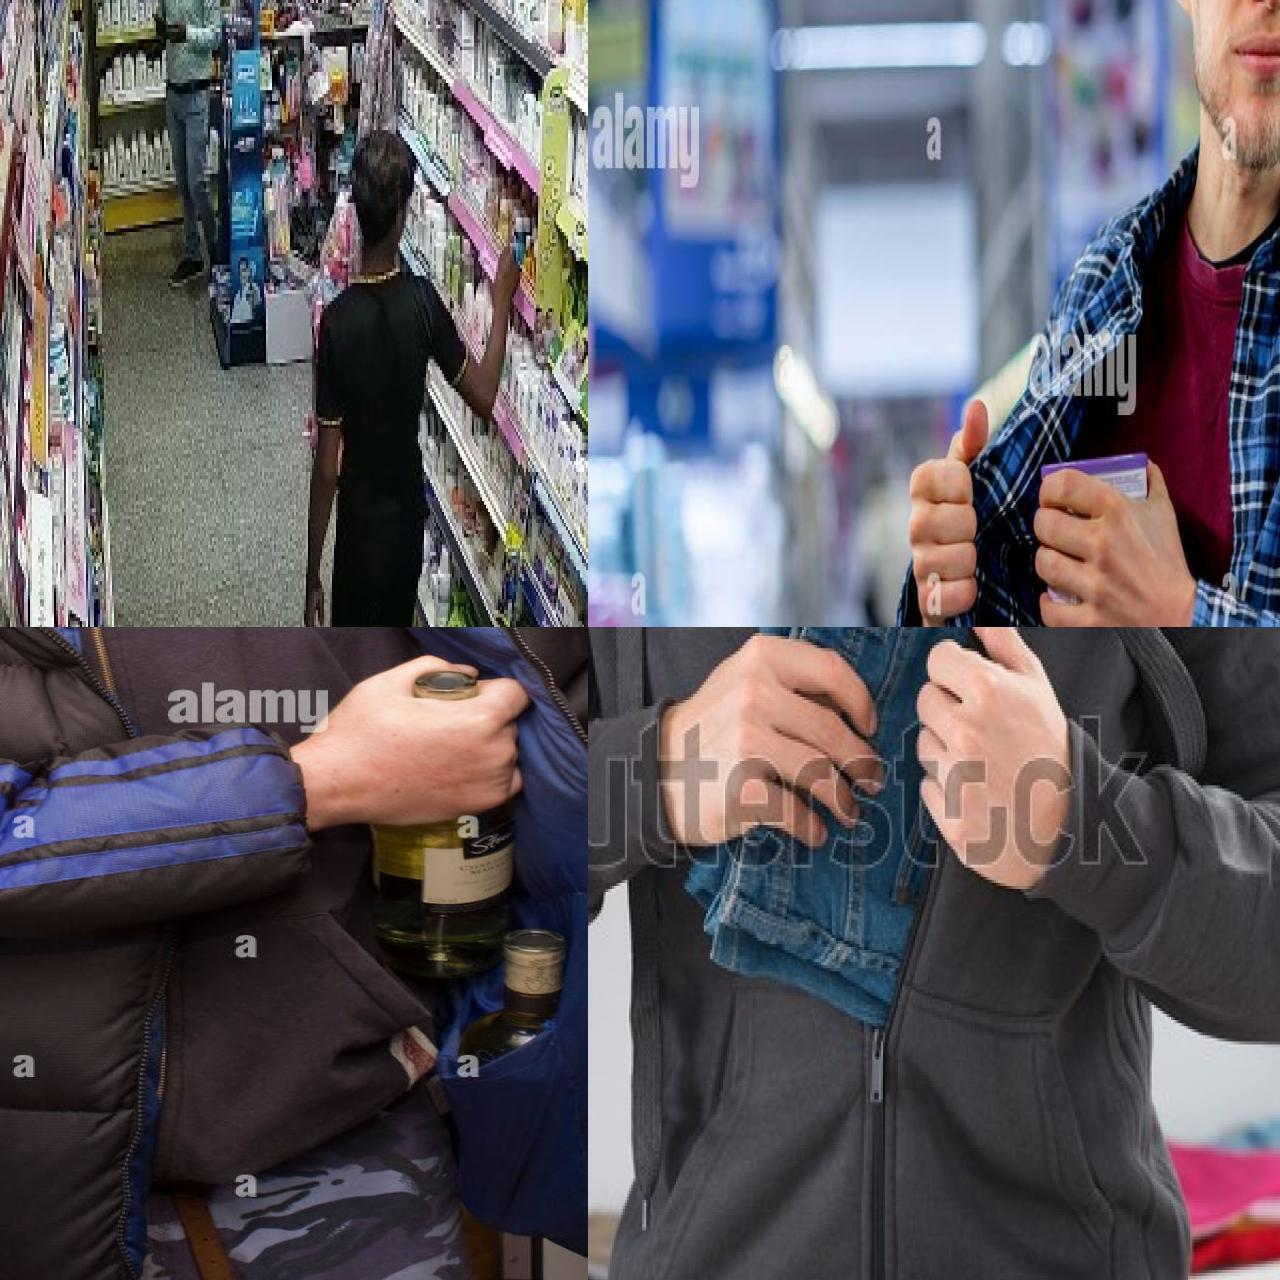Shoplifting: (642, 627, 1262, 1280), (0, 627, 588, 1159), (897, 0, 1280, 627)
normal: (305, 98, 484, 627)
